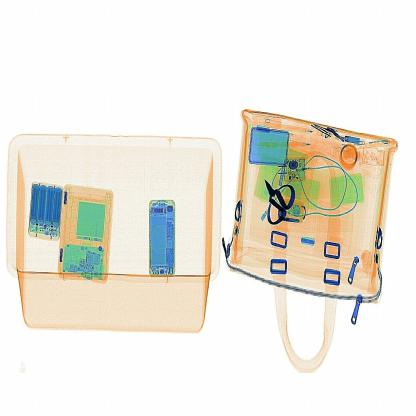gun: (260, 173, 302, 233)
